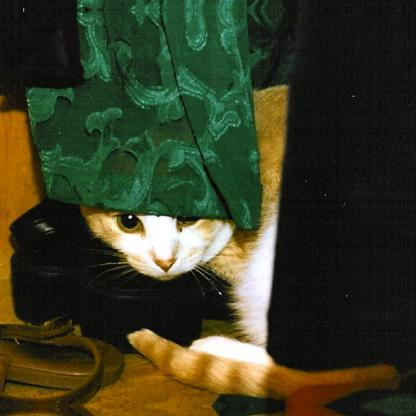Cat: (77, 84, 398, 404)
